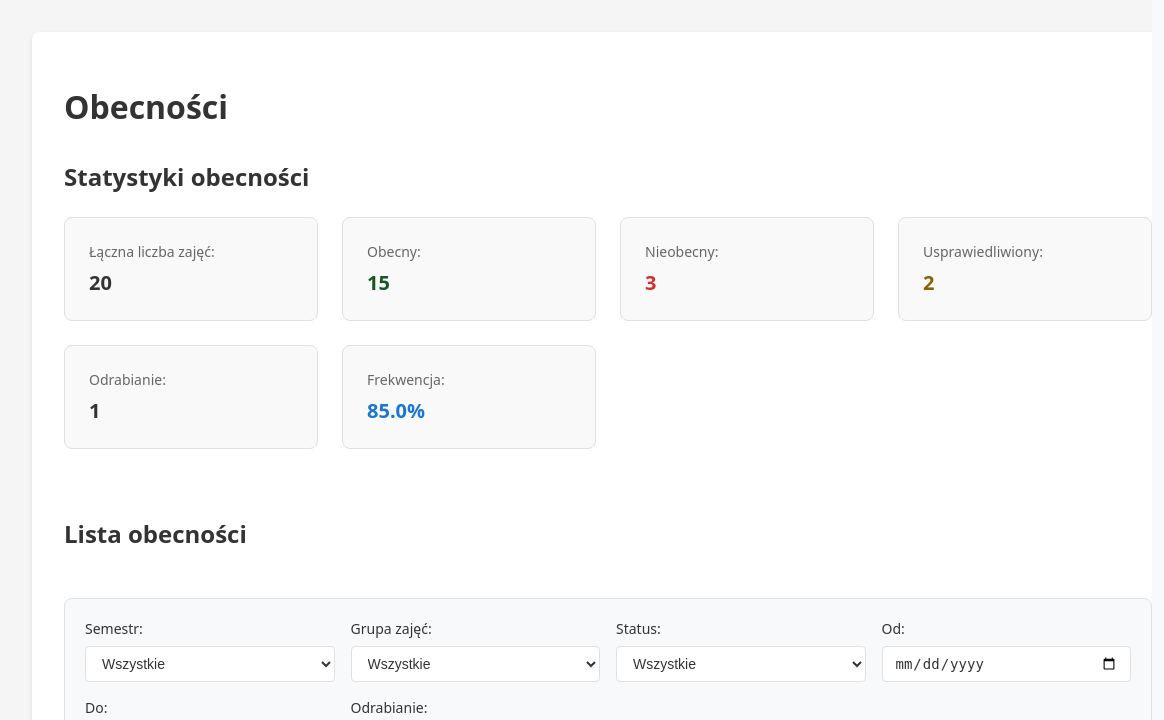
Scenario: AttendancePage › should show clear filters button when filters are active
Select "Obecny" in the dropdown labelled "Status:" at (741, 664), box 616,646 -> 866,682
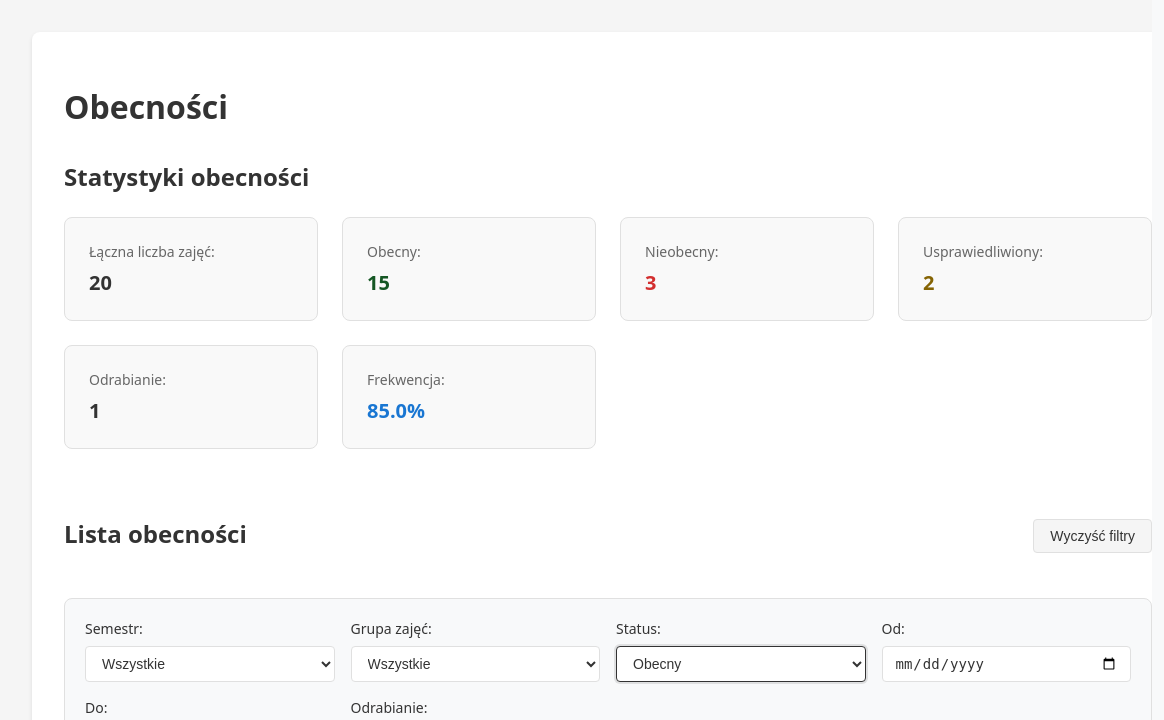
Check: the button "Wyczyść filtry" is shown, box 1033,519 -> 1152,553
